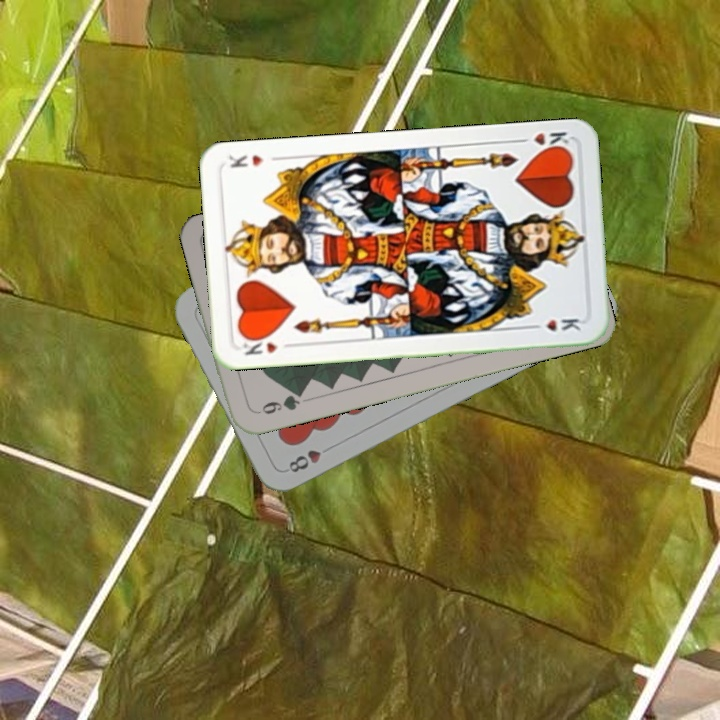G9: (251, 386, 307, 417)
H8: (284, 441, 336, 476)
HK: (513, 127, 572, 155), (239, 332, 295, 358)
